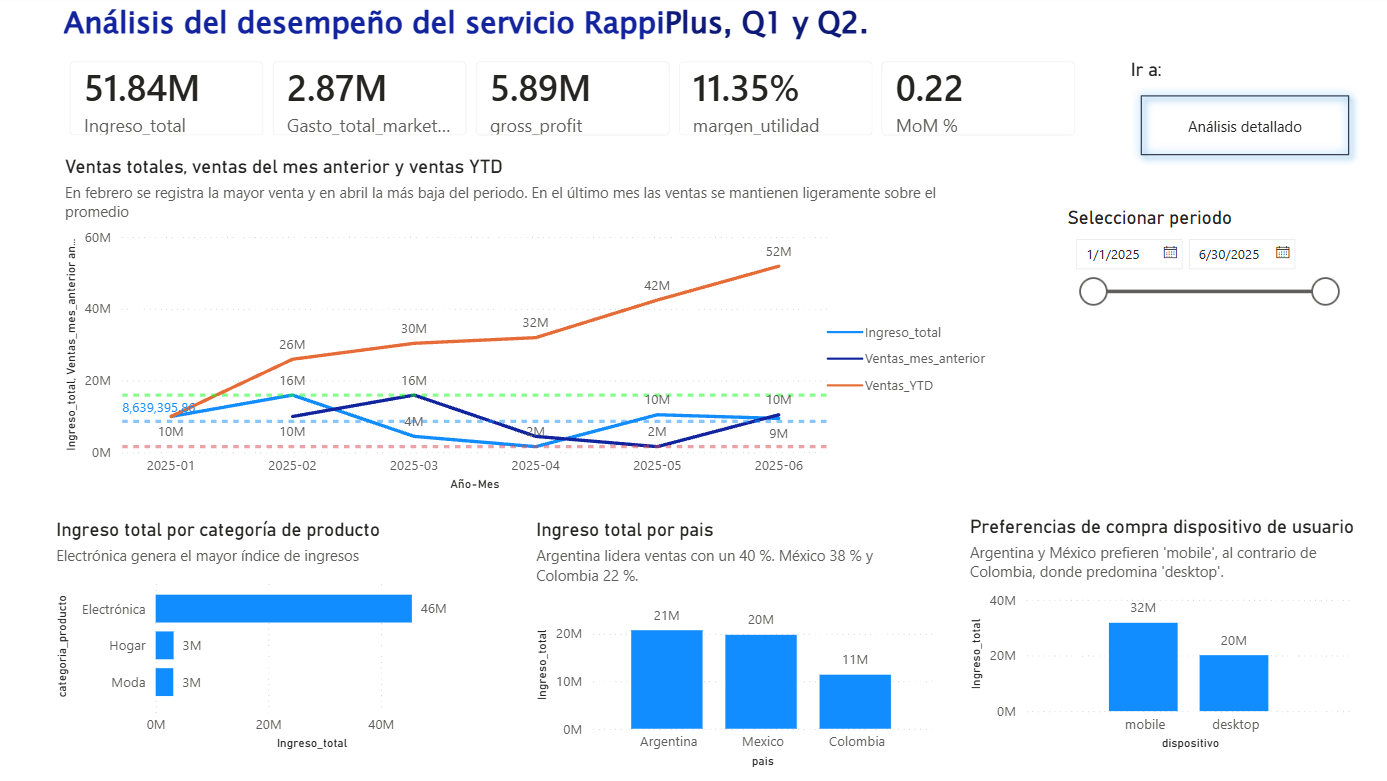

What the dashboard file says about the page in this screenshot:
{"tool":"powerbi","page":{"name":"Overview ejecutivo","canvas":[1280,720],"ordinal":0},"visuals":[{"type":"textbox","box":[68.8,0,771.2,57.5],"z":0},{"type":"cardVisual","fields":{"Data":["orders_clean.Ingreso_total","orders_clean.Gasto_total_marketing","orders_clean.gross_profit","orders_clean.margen_utilidad","orders_clean.MoM %"]},"box":[61.4,42.9,944.3,101.4],"z":1000},{"type":"lineChart","title":"Ventas totales, ventas del mes anterior y ventas YTD","fields":{"Y":["orders_clean.Ingreso_total","orders_clean.Ventas_mes_anterior","orders_clean.Ventas_YTD"],"Category":["Dim_Fecha.Año-Mes"]},"box":[70,143.8,848.8,307.5],"z":2000},{"type":"columnChart","title":"Preferencias de compra dispositivo de usuario","fields":{"Category":["orders_clean.dispositivo"],"Y":["orders_clean.Ingreso_total"]},"box":[886.2,468.8,356.2,216.2],"z":3000},{"type":"columnChart","title":"Ingreso total por pais","fields":{"Y":["orders_clean.Ingreso_total"],"Category":["orders_clean.pais"]},"box":[495,472.5,367.5,228.8],"z":4000},{"type":"clusteredBarChart","title":"Ingreso total por categoría de producto","fields":{"Category":["orders_clean.categoria_producto"],"Y":["orders_clean.Ingreso_total"]},"box":[61.5,472.6,393.8,212.9],"z":5000},{"type":"slicer","title":"Seleccionar periodo","fields":{"Values":["Dim_Fecha.Date"]},"box":[973.8,190,258.8,116.2],"z":6000},{"type":"pageNavigator","title":"Ir a:","box":[1036.2,57.5,206.2,96.2],"z":7000}]}

Visuals, with their boxes in screenshot pixels (x1, y1, x2, y2), scaled from the page's 1280x720 canvas onto the 1387x781 screenshot:
textbox: x1=75, y1=0, x2=910, y2=62
cardVisual - orders_clean.Ingreso_total x orders_clean.Gasto_total_marketing: x1=67, y1=47, x2=1090, y2=157
"Ventas totales, ventas del mes anterior y ventas YTD" lineChart: x1=76, y1=156, x2=996, y2=490
"Preferencias de compra dispositivo de usuario" columnChart: x1=960, y1=509, x2=1346, y2=743
"Ingreso total por pais" columnChart: x1=536, y1=513, x2=935, y2=761
"Ingreso total por categoría de producto" clusteredBarChart: x1=67, y1=513, x2=493, y2=744
"Seleccionar periodo" slicer: x1=1055, y1=206, x2=1336, y2=332
"Ir a:" pageNavigator: x1=1123, y1=62, x2=1346, y2=167
